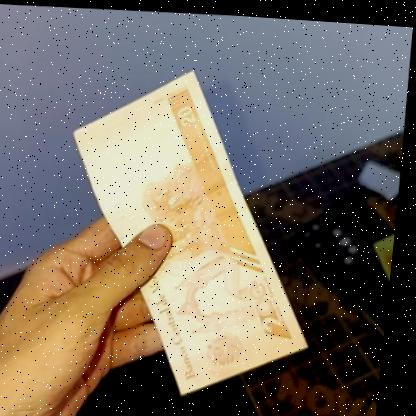twenty-back-vef: (48, 57, 340, 407)
